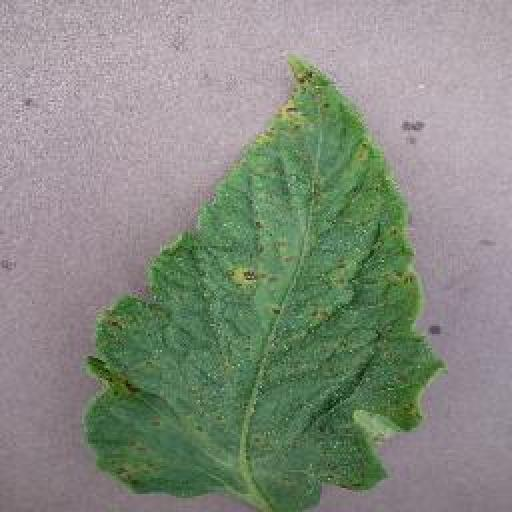Septoria: (84, 50, 444, 512)
